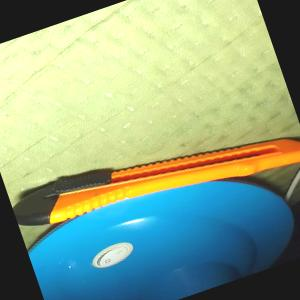estilete: (7, 98, 300, 256)
